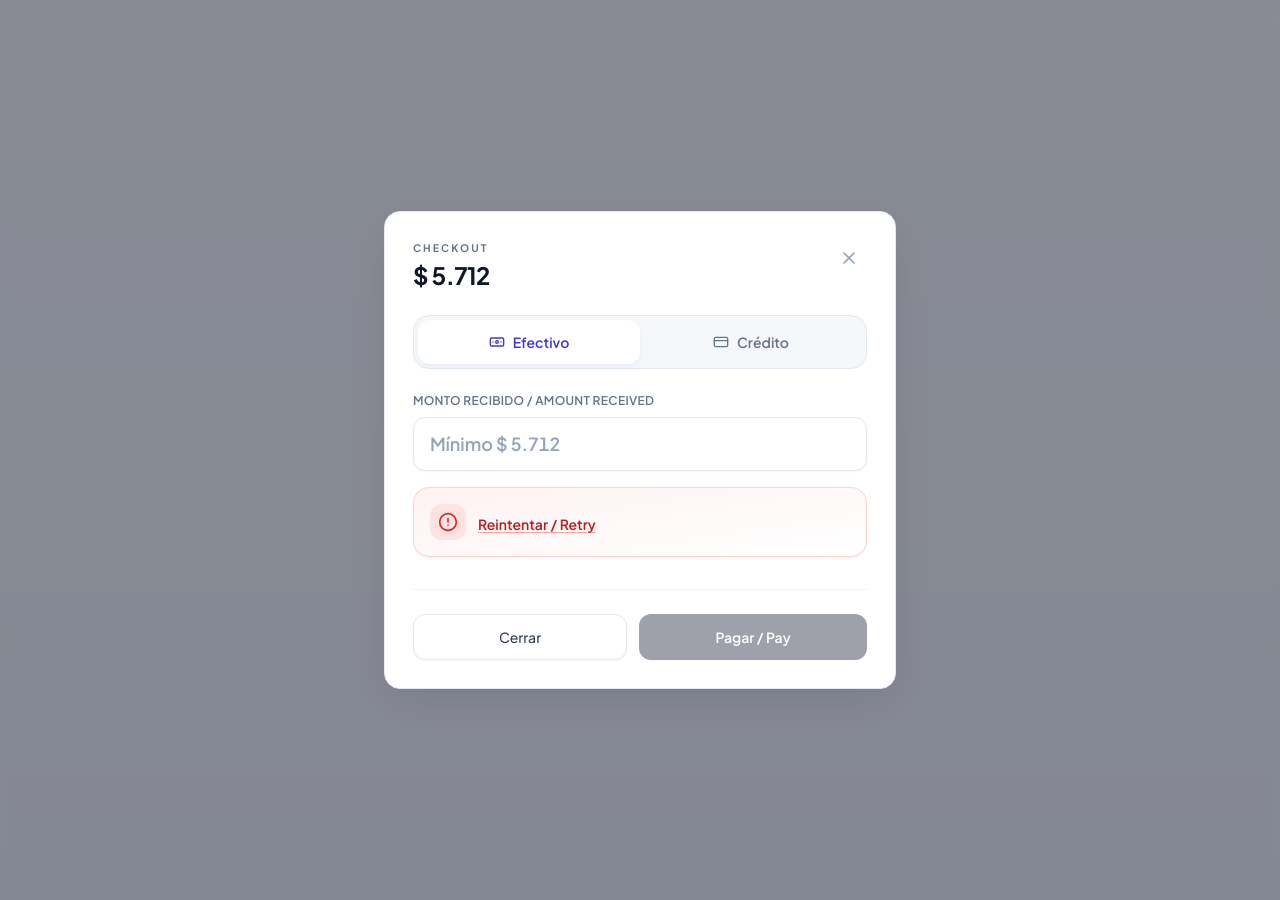
Test: CheckoutModal › should switch to credit payment form
Click the button "Crédito" at [751, 342], box [640,320,862,364]
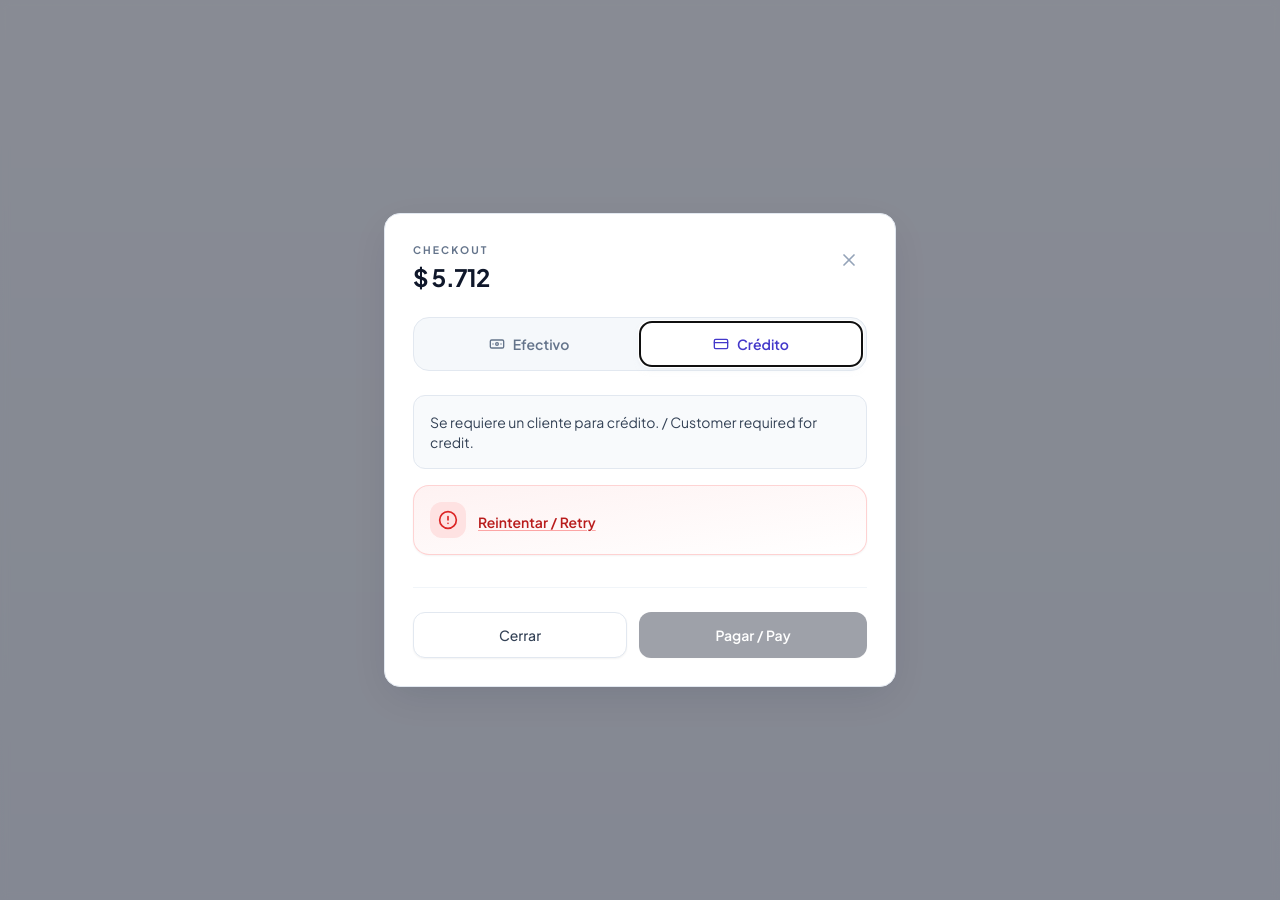
expect the text "Se requiere un cliente" is shown: met, box [430,413,817,451]
